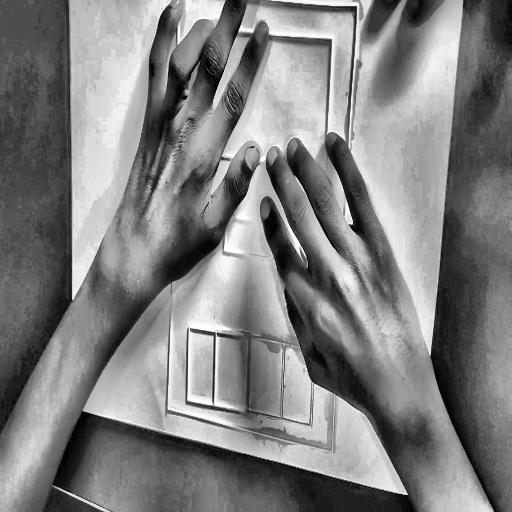bottom_left: (70, 399, 79, 412)
bottom_right: (407, 488, 414, 500)
door: (161, 0, 362, 464)
